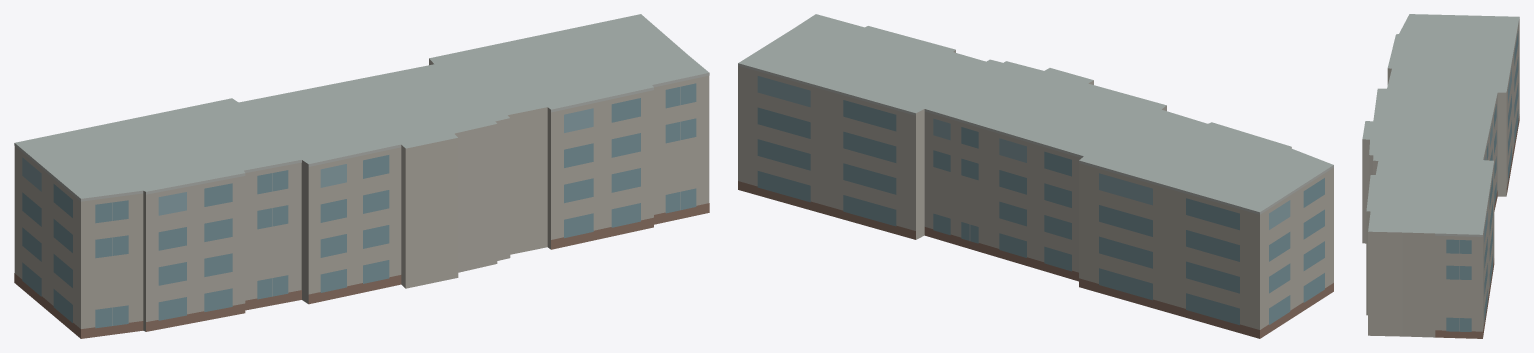
File: survey-upis-32468870.glb
3 renders of one model, left to right at view 1: azimuth 30°, elevation 25°; view 2: azimuth 150°, elevation 25°; view 3: azimuth 270°, elevation 25°, orthographic. The views are drawn at different scales.
Visible parts, largest first — view 1: survey-upis-32468870.tmp; view 2: survey-upis-32468870.tmp; view 3: survey-upis-32468870.tmp.
Part boxes in pixels (<box>): survey-upis-32468870.tmp: <box>14,14,709,338</box>; survey-upis-32468870.tmp: <box>738,14,1333,338</box>; survey-upis-32468870.tmp: <box>1362,14,1519,338</box>.
Size of the model in its own units: 55.56 by 12.2 by 16.7.
